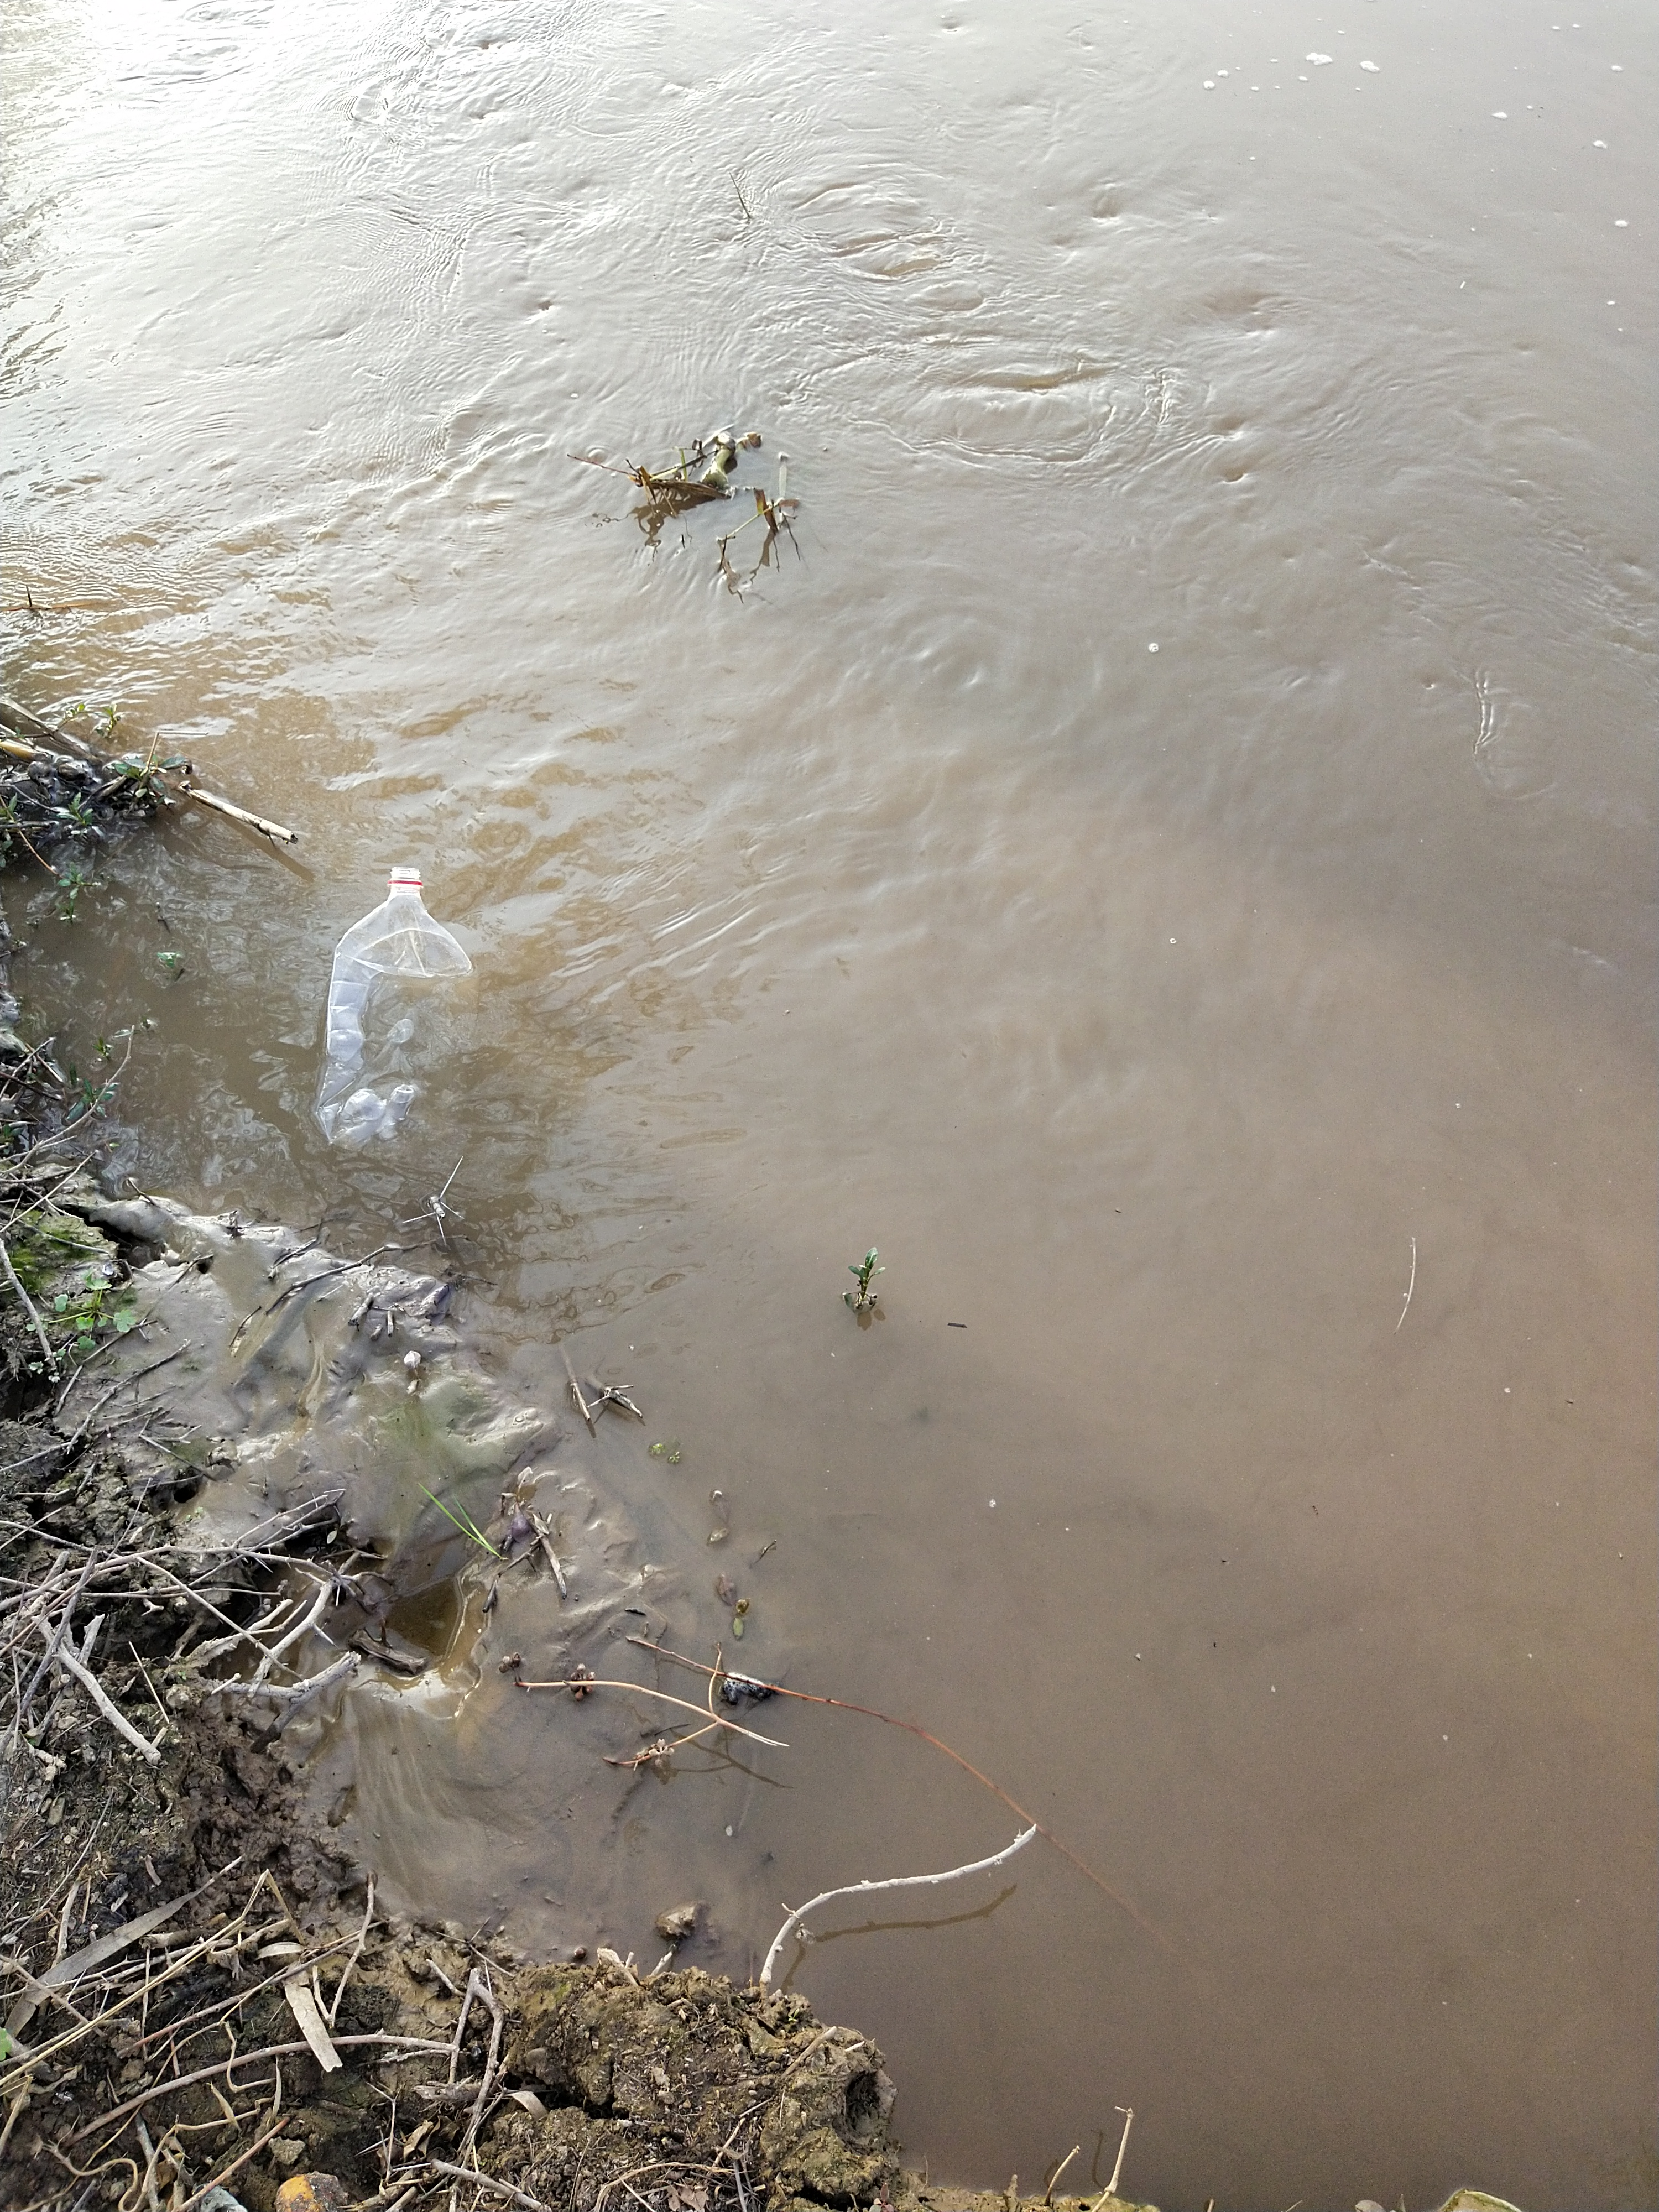Plastic Bottle: (314, 864, 479, 1150)
